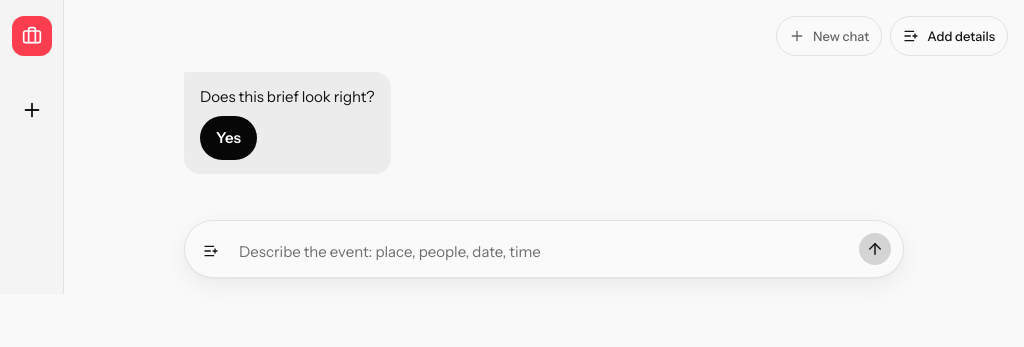
Test: header and composer › returns to the empty home from the header
Click the button "New chat" at (829, 36), box [776,16,882,56]
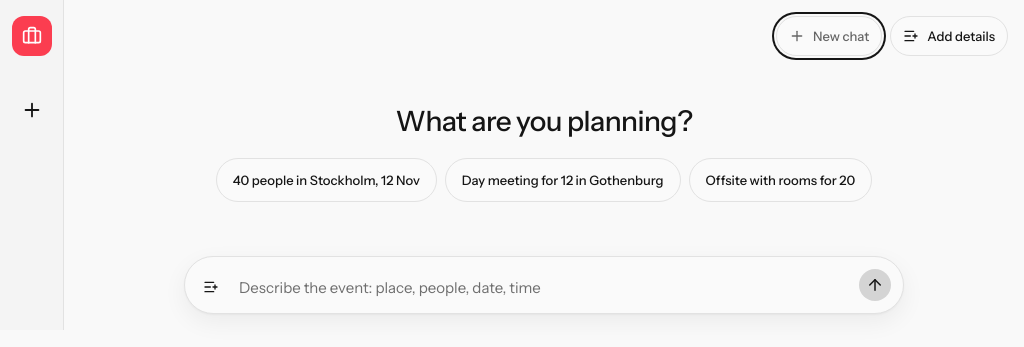
Result: the heading "What are you planning?" is shown at [396,104,692,138]
Result: the button "Yes" is gone
